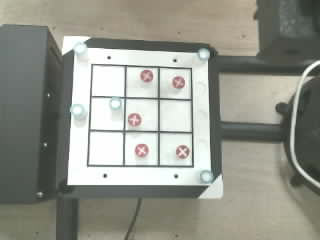blue circle: (70, 104, 86, 118), (200, 170, 213, 183), (73, 42, 86, 54), (198, 48, 210, 60), (109, 97, 121, 109)
board: (67, 48, 213, 185)
cells: (89, 132, 123, 165), (160, 133, 192, 165), (125, 133, 157, 165), (125, 99, 157, 130), (91, 98, 123, 129), (92, 65, 124, 96), (160, 100, 191, 131), (160, 68, 191, 98), (127, 67, 157, 97)
grid: (87, 64, 193, 167)
red cross: (176, 145, 190, 159), (135, 144, 149, 158), (140, 70, 153, 83), (128, 113, 141, 126), (172, 76, 185, 88)
